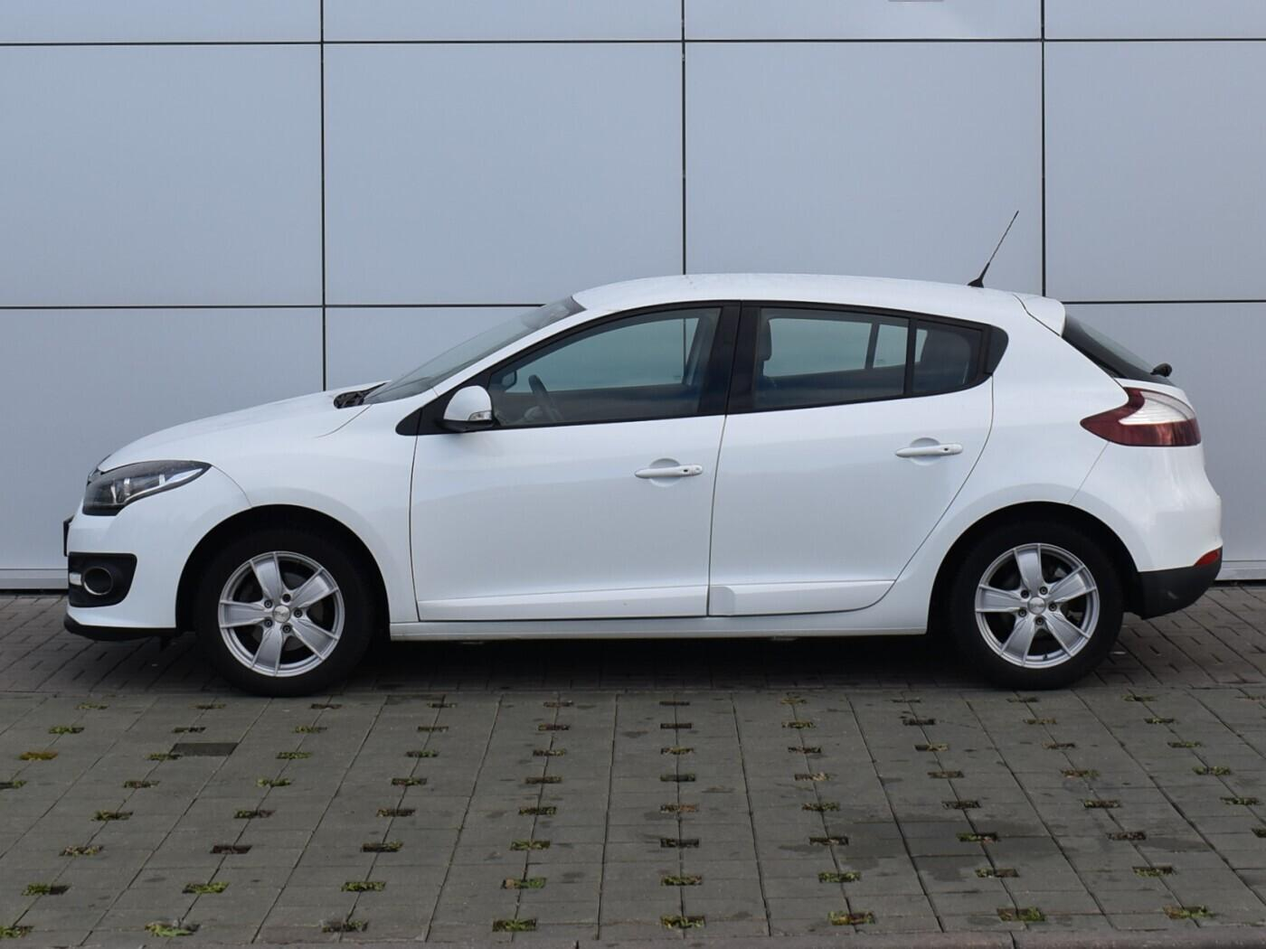Megane_2014-2016: (58, 270, 1227, 706)
